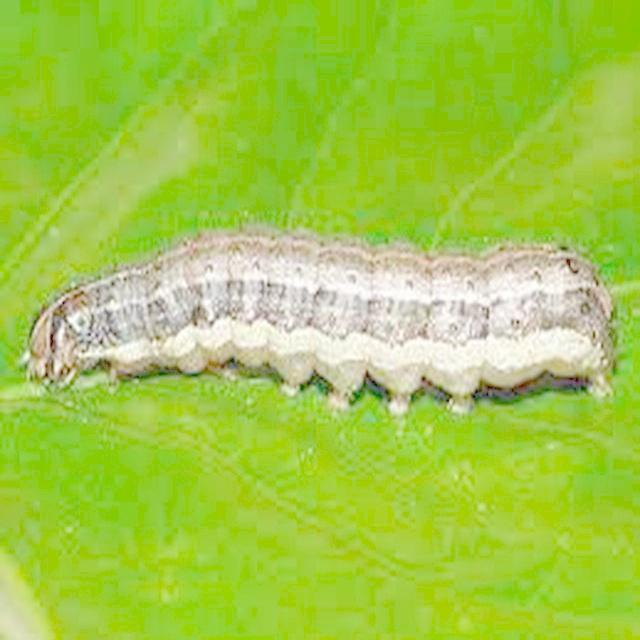worm: (19, 223, 620, 417)
